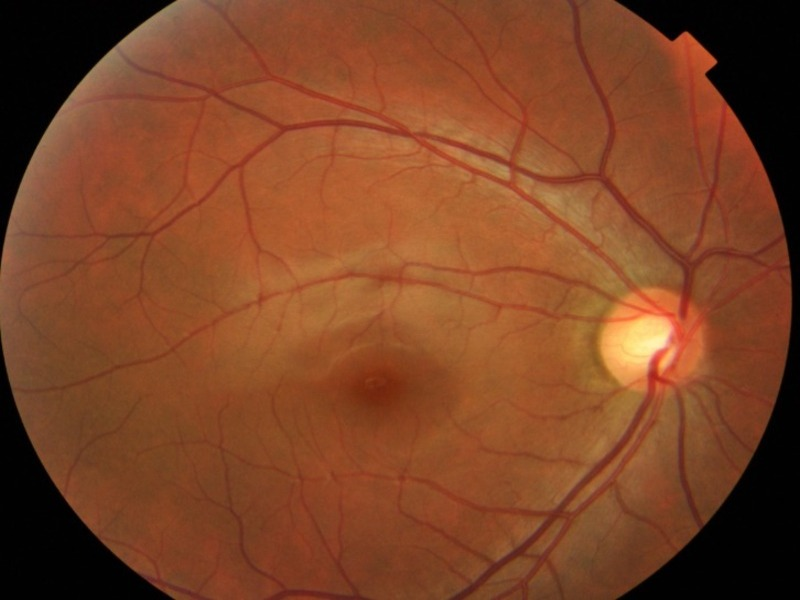Optic Cup: (619, 312, 671, 361)
Optic Disc: (597, 287, 704, 394)
